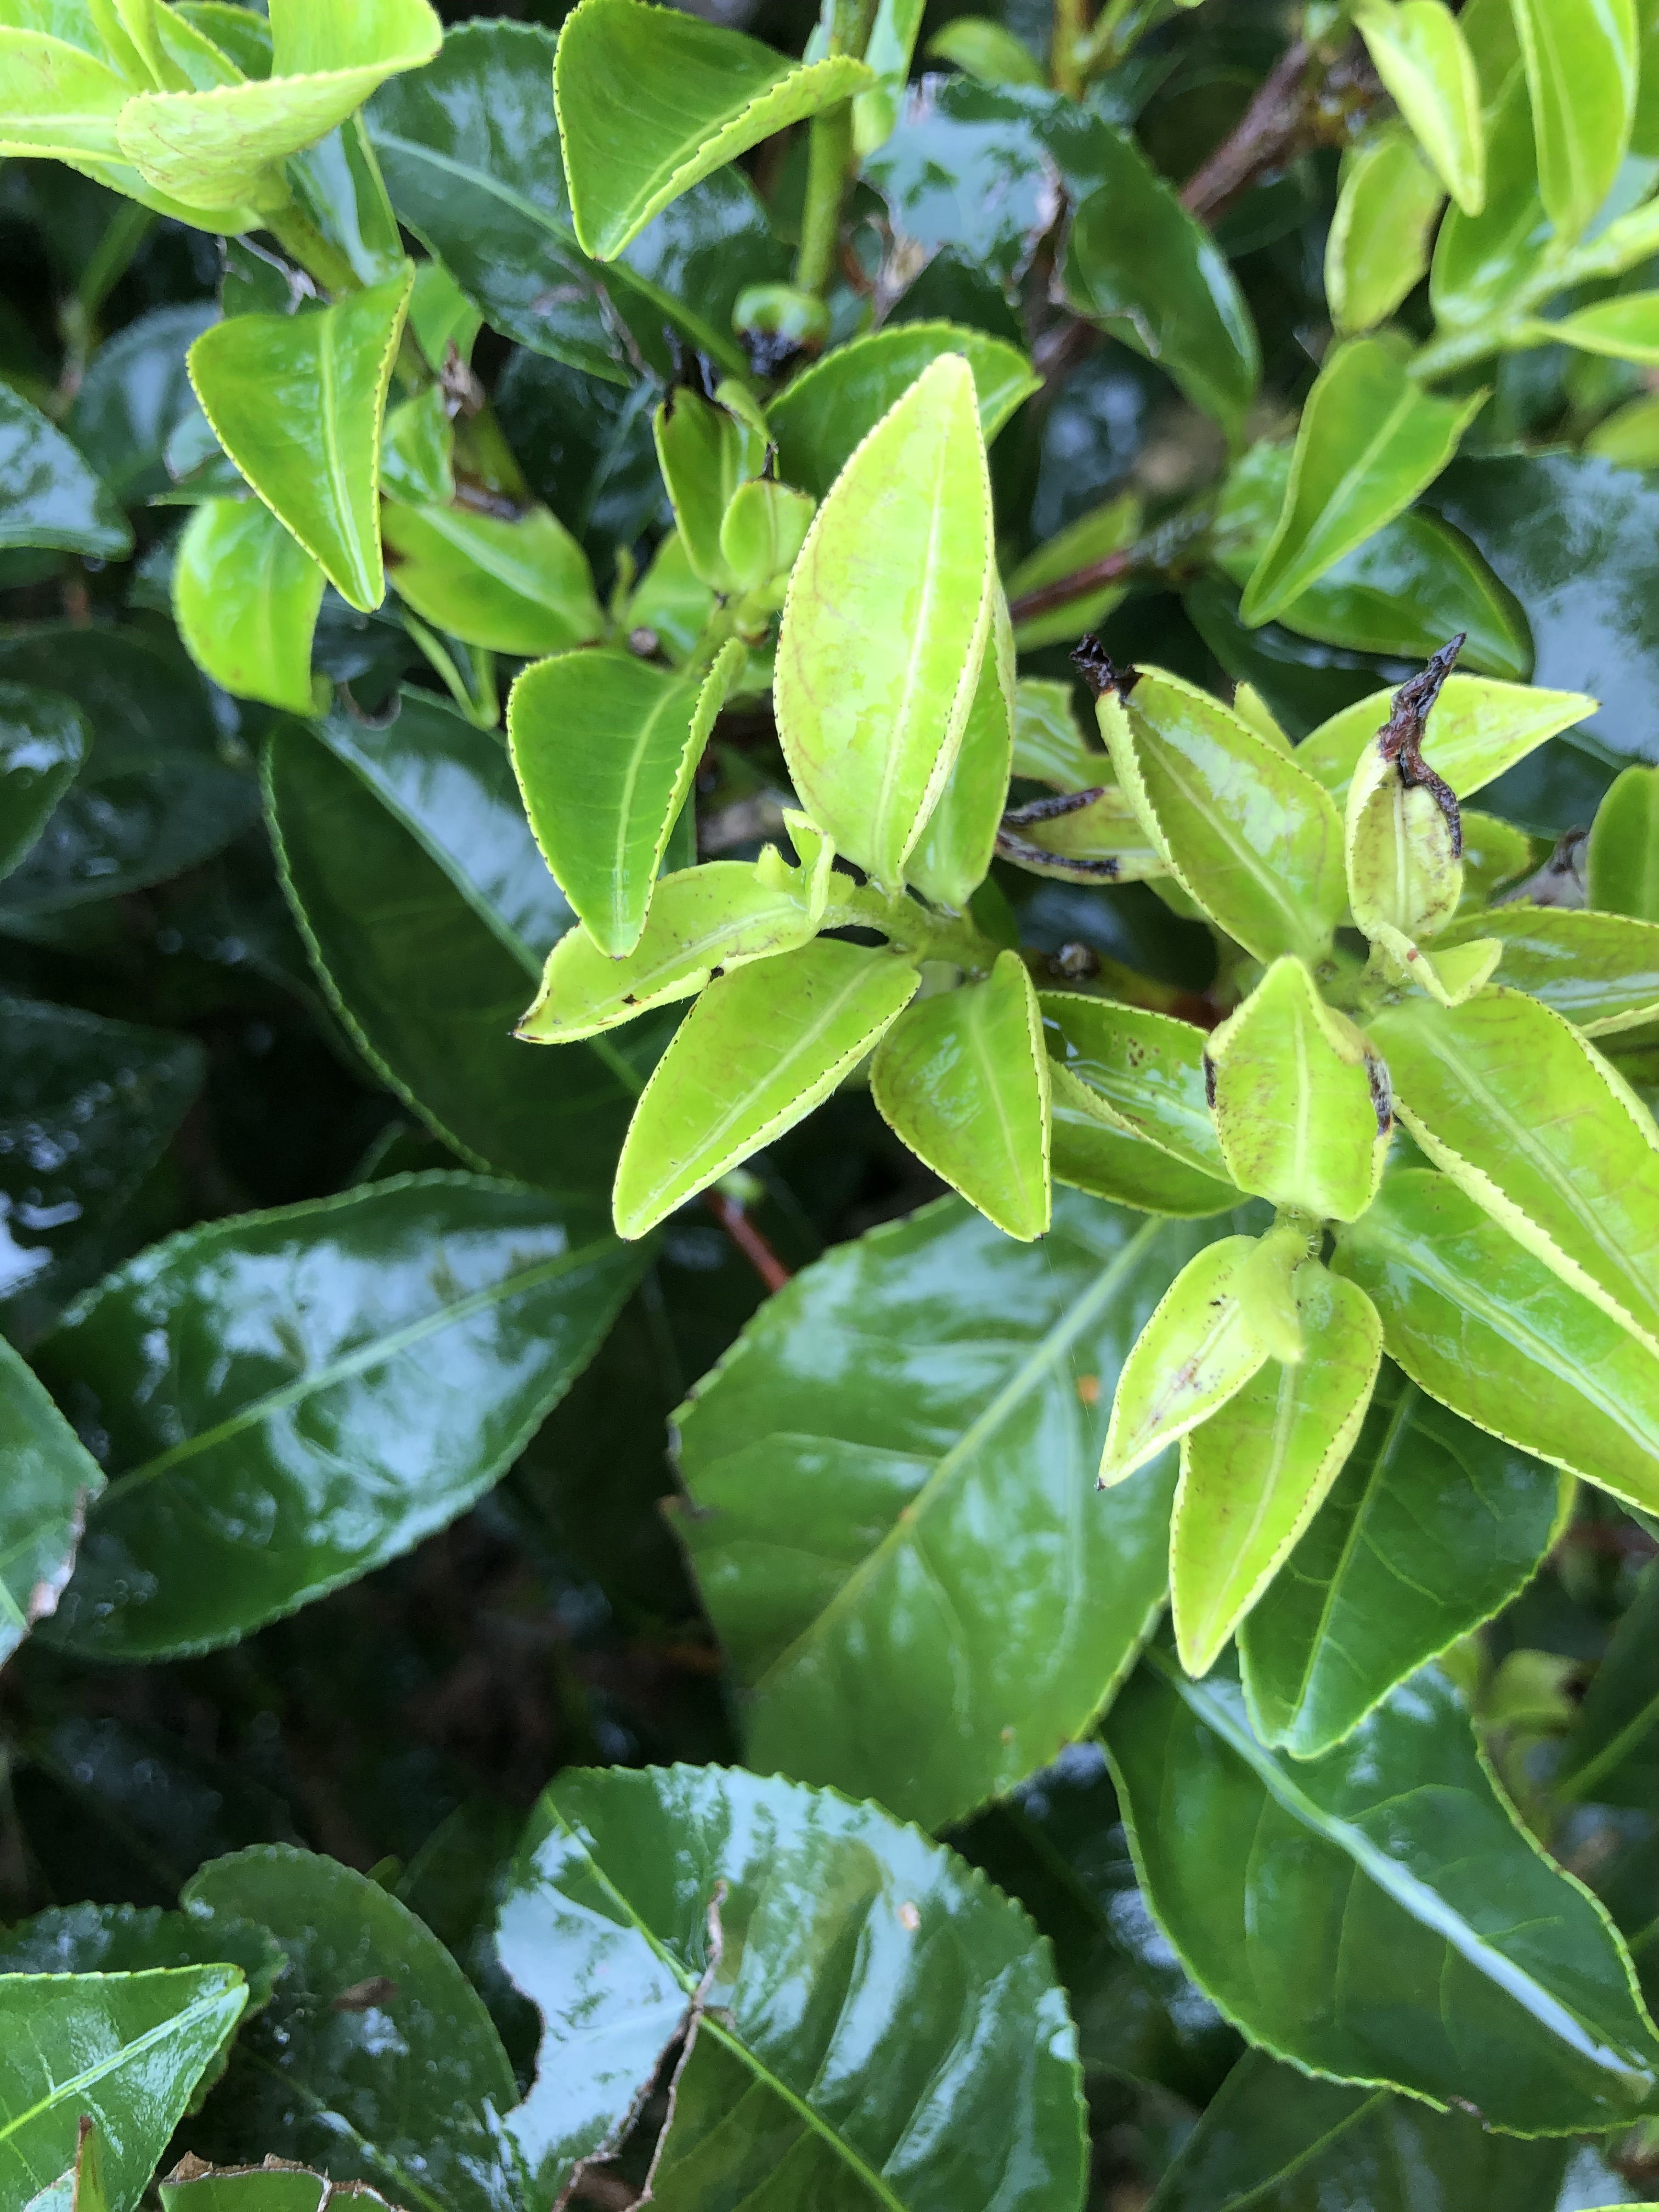formosa: (767, 340, 1002, 894), (1145, 1211, 1391, 1665)
fungi_early: (502, 859, 836, 1062)
mosquito_early: (1344, 653, 1476, 946)
other: (467, 1778, 1051, 2188)
